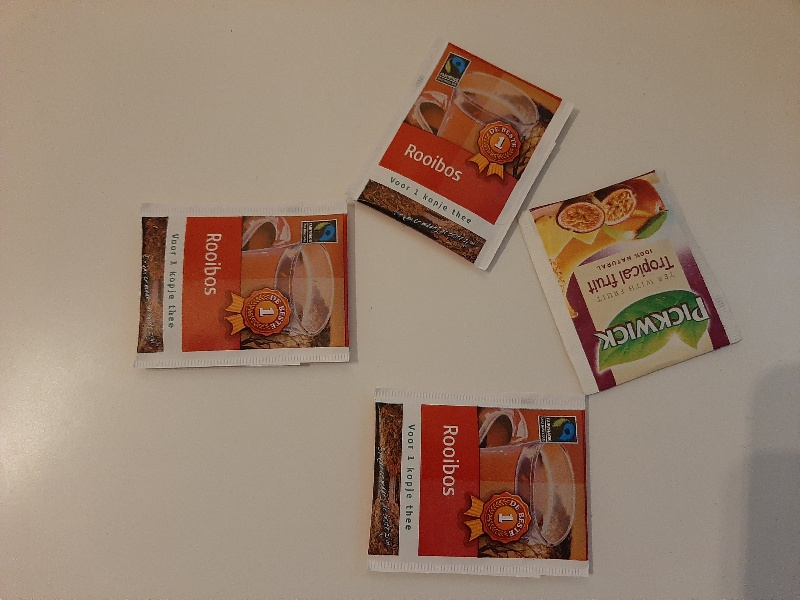rooibos: (348, 41, 578, 270), (365, 386, 597, 583), (128, 194, 355, 373)
tropisch: (515, 167, 745, 395)
